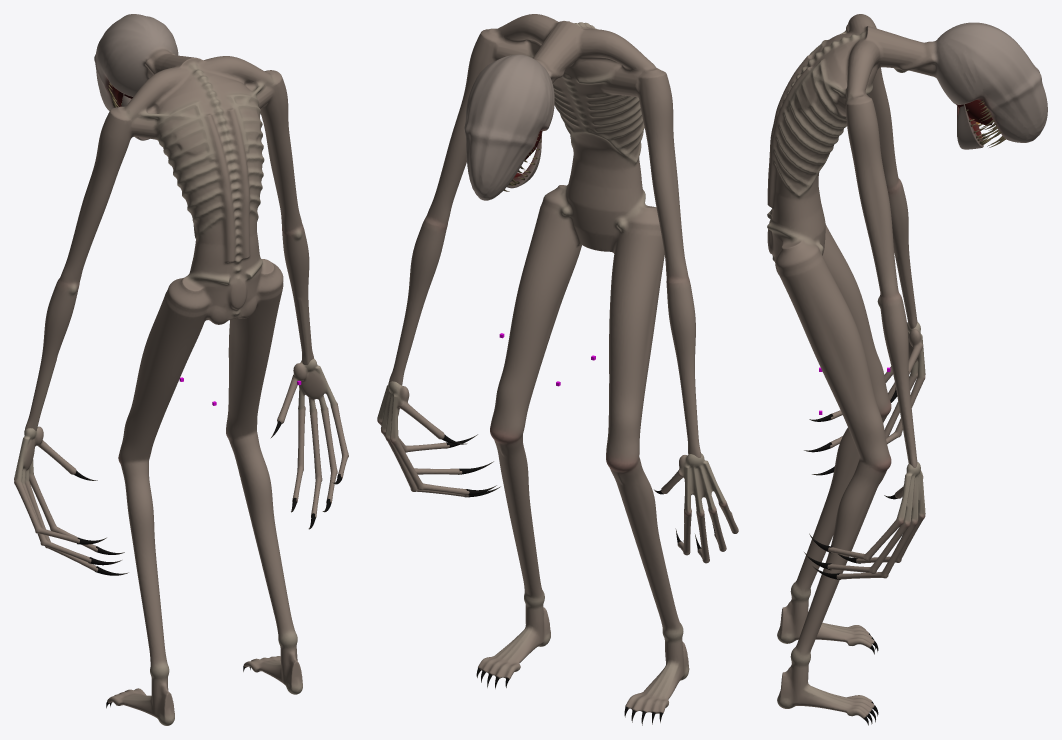
File: Monstre_couleurs_sommets.glb
The picture shows the model from 3 angles, left to right: view 1: azimuth 30°, elevation 25°; view 2: azimuth 150°, elevation 25°; view 3: azimuth 270°, elevation 25°; orthographic projection. The views are drawn at different scales.
Visible parts, largest first — view 1: MON_UpperChest_1, MON_Pelvis_1, MON_Chest_1, MON_Thigh_L_1, MON_Shin_R_1, MON_Shin_L_1, MON_Thigh_R_1, MON_Head_1, MON_UpperArm_L_1, MON_Abdomen_1, MON_UpperArm_R_1, MON_Forearm_L_1 (+6 smaller); view 2: MON_Head_1, MON_Pelvis_1, MON_UpperChest_1, MON_Thigh_L_1, MON_Thigh_R_1, MON_UpperArm_L_1, MON_Shin_L_1, MON_Shin_R_1, MON_Abdomen_1, MON_Chest_1, MON_UpperArm_R_1, MON_Forearm_L_1 (+6 smaller); view 3: MON_Head_1, MON_Thigh_R_1, MON_UpperChest_1, MON_Pelvis_1, MON_Shin_R_1, MON_UpperArm_R_1, MON_Chest_1, MON_Shin_L_1, MON_Abdomen_1, MON_Forearm_R_1, MON_Thigh_L_1, MON_Forearm_L_1 (+7 smaller).
Boxes of the visible parts, x1,y1,x2,y2 form: MON_UpperChest_1: [101, 56, 286, 150]; MON_Pelvis_1: [157, 239, 283, 335]; MON_Chest_1: [163, 105, 264, 203]; MON_Thigh_L_1: [118, 314, 200, 475]; MON_Shin_R_1: [232, 444, 302, 694]; MON_Shin_L_1: [123, 471, 174, 725]; MON_Thigh_R_1: [226, 307, 278, 448]; MON_Head_1: [94, 14, 178, 110]; MON_UpperArm_L_1: [54, 131, 129, 296]; MON_Abdomen_1: [186, 188, 262, 253]; MON_UpperArm_R_1: [260, 94, 305, 242]; MON_Forearm_L_1: [25, 290, 76, 430]; MON_Head_1: [464, 54, 554, 200]; MON_Pelvis_1: [532, 163, 664, 277]; MON_UpperChest_1: [471, 14, 671, 104]; MON_Thigh_L_1: [606, 262, 663, 478]; MON_Thigh_R_1: [490, 239, 573, 450]; MON_UpperArm_L_1: [640, 97, 691, 294]; MON_Shin_L_1: [613, 467, 689, 680]; MON_Shin_R_1: [496, 439, 550, 646]; MON_Abdomen_1: [560, 115, 644, 179]; MON_Chest_1: [553, 84, 643, 132]; MON_UpperArm_R_1: [420, 54, 486, 236]; MON_Forearm_L_1: [667, 291, 701, 457]; MON_Head_1: [920, 22, 1047, 147]; MON_Thigh_R_1: [789, 283, 891, 478]; MON_UpperChest_1: [809, 14, 897, 127]; MON_Pelvis_1: [767, 188, 835, 299]; MON_Shin_R_1: [777, 470, 883, 708]; MON_UpperArm_R_1: [847, 124, 903, 312]; MON_Chest_1: [771, 51, 846, 162]; MON_Shin_L_1: [777, 428, 859, 643]; MON_Abdomen_1: [768, 134, 830, 208]; MON_Forearm_R_1: [880, 307, 917, 467]; MON_Thigh_L_1: [831, 243, 891, 422]; MON_Forearm_L_1: [889, 191, 917, 328].
Size of the model in its own units: 5.71 by 10.74 by 4.13.
